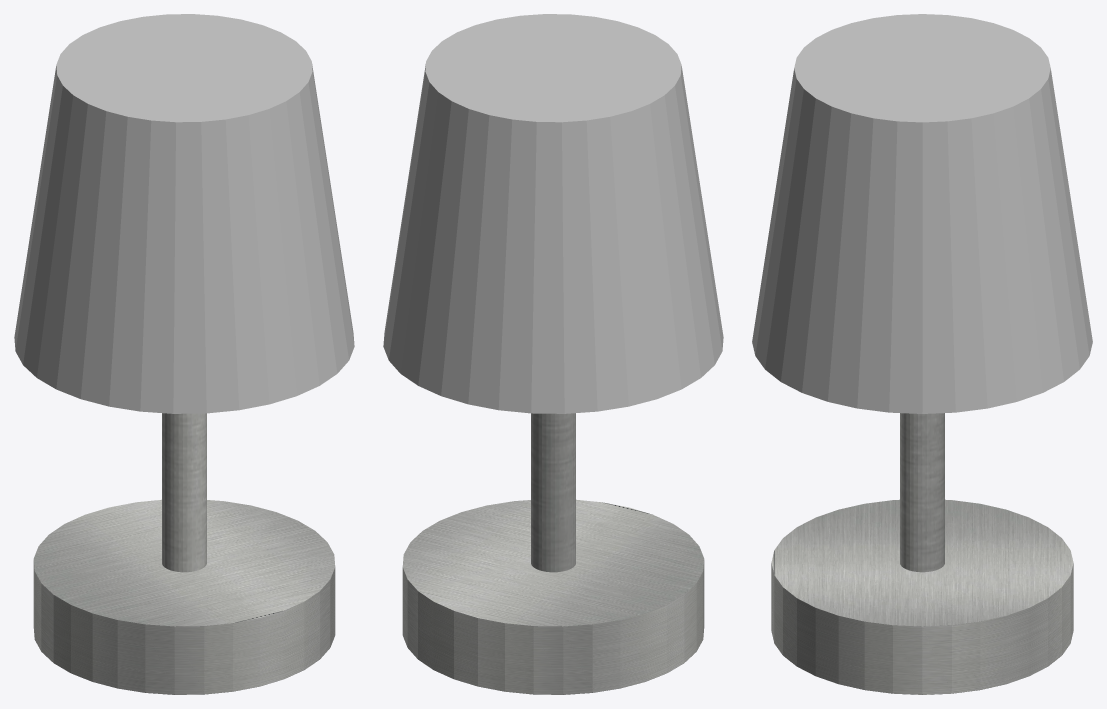
Rendered from lampe_de_chevet.fbx.
3 views of the same model, side by side, from view 1: azimuth 30°, elevation 25°; view 2: azimuth 150°, elevation 25°; view 3: azimuth 270°, elevation 25° (orthographic).
Parts seen in each view (by area): view 1: Cylinder; view 2: Cylinder; view 3: Cylinder.
Boxes of the visible parts, bbox=[...] form: Cylinder: bbox=[14, 14, 354, 694]; Cylinder: bbox=[383, 14, 723, 694]; Cylinder: bbox=[752, 14, 1092, 694].
Bounding box in the file's own units: 22.56 × 41.12 × 22.56.
